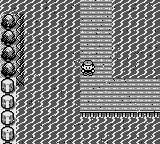captura: (1, 0, 160, 143), (112, 0, 160, 79), (113, 0, 160, 78)
main: (81, 61, 95, 76)
mo: (16, 17, 24, 83)
no-caminable: (1, 78, 16, 143), (1, 14, 16, 78)
